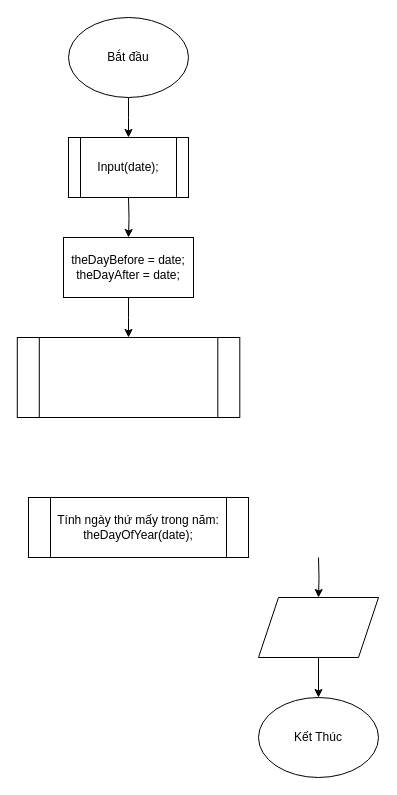
The diagram is 397 pixels wide and 795 high, and some of its shapes have lost their labels. The centre of each missing label's shape, as x and y in pixels:
"theDayBefore.subtractDays(1); theDayAfter.addDays(1);" belongs at point (128, 377).
"Xuất kết quả" belongs at point (318, 627).
